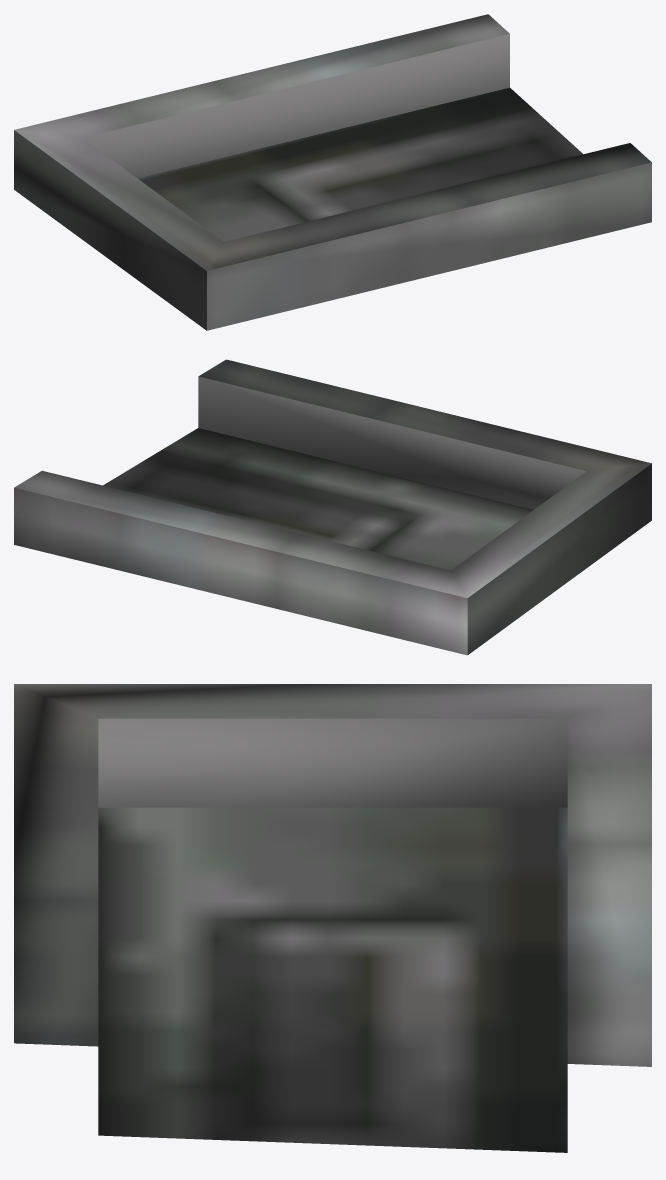
Rendered from Shared - Armor - Tanker Truck - Damage State 34 - CVTanker_d34.glb.
3 renders of one model, top to bottom at view 1: azimuth 30°, elevation 25°; view 2: azimuth 150°, elevation 25°; view 3: azimuth 270°, elevation 25°, orthographic. The views are drawn at different scales.
Parts seen in each view (by area): view 1: CVTANKER_D34; view 2: CVTANKER_D34; view 3: CVTANKER_D34.
Part boxes in pixels (box(x1,y1,x2,y2)): CVTANKER_D34: box(14, 14, 651, 330); CVTANKER_D34: box(14, 359, 651, 655); CVTANKER_D34: box(14, 684, 651, 1152).
Bounding box in the file's own units: 7.46 × 0.8981 × 5.25.
Materials: 1 (1 with a texture image).
